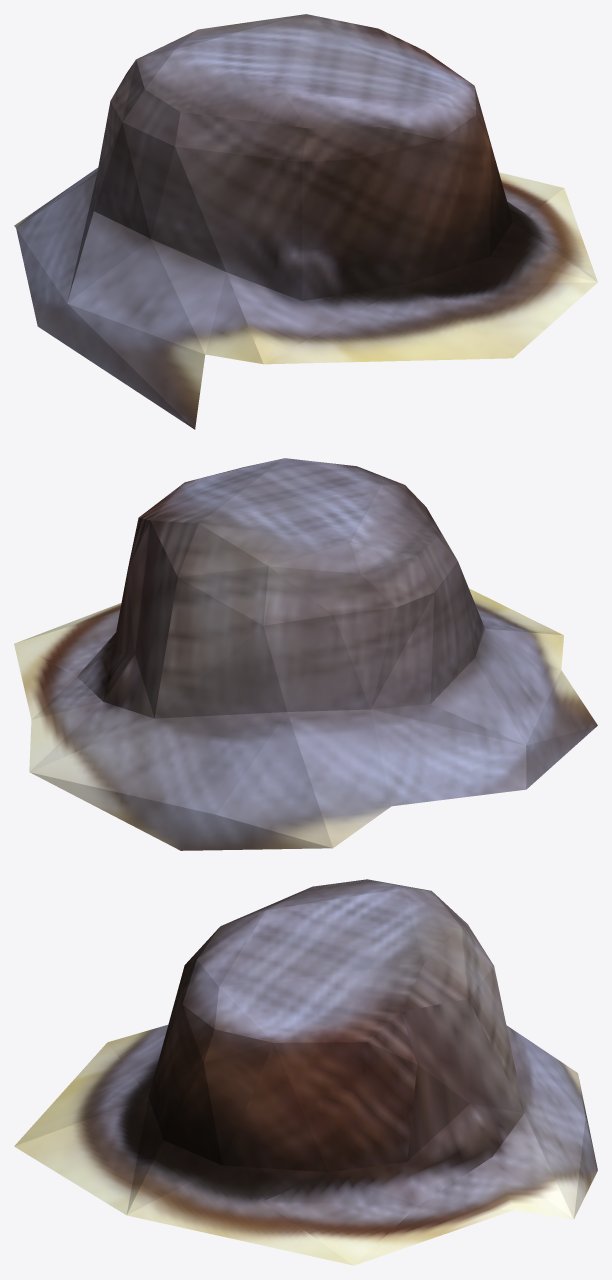
The model's file is hat_clean3.gltf.
3 views of the same model, one above another, from view 1: azimuth 30°, elevation 25°; view 2: azimuth 150°, elevation 25°; view 3: azimuth 270°, elevation 25° (orthographic). The views are drawn at different scales.
Parts seen in each view (by area): view 1: Node; view 2: Node; view 3: Node.
Part boxes in pixels (x1=…): Node: x1=14, y1=14, x2=597, y2=429; Node: x1=14, y1=458, x2=597, y2=850; Node: x1=14, y1=879, x2=597, y2=1265.
Size of the model in its own units: 491 by 229 by 488.
Materials: 2 (2 with a texture image).
